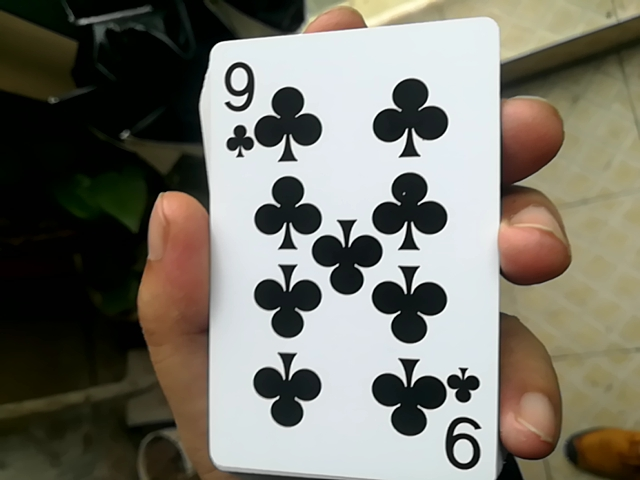mh 9: (194, 18, 497, 480)
